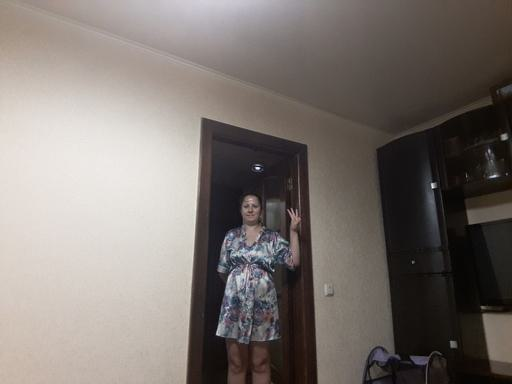three: (285, 205, 303, 234)
